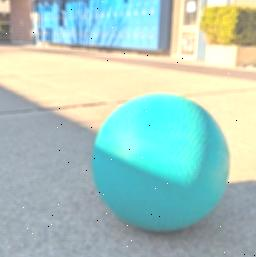algae: (95, 91, 229, 230)
